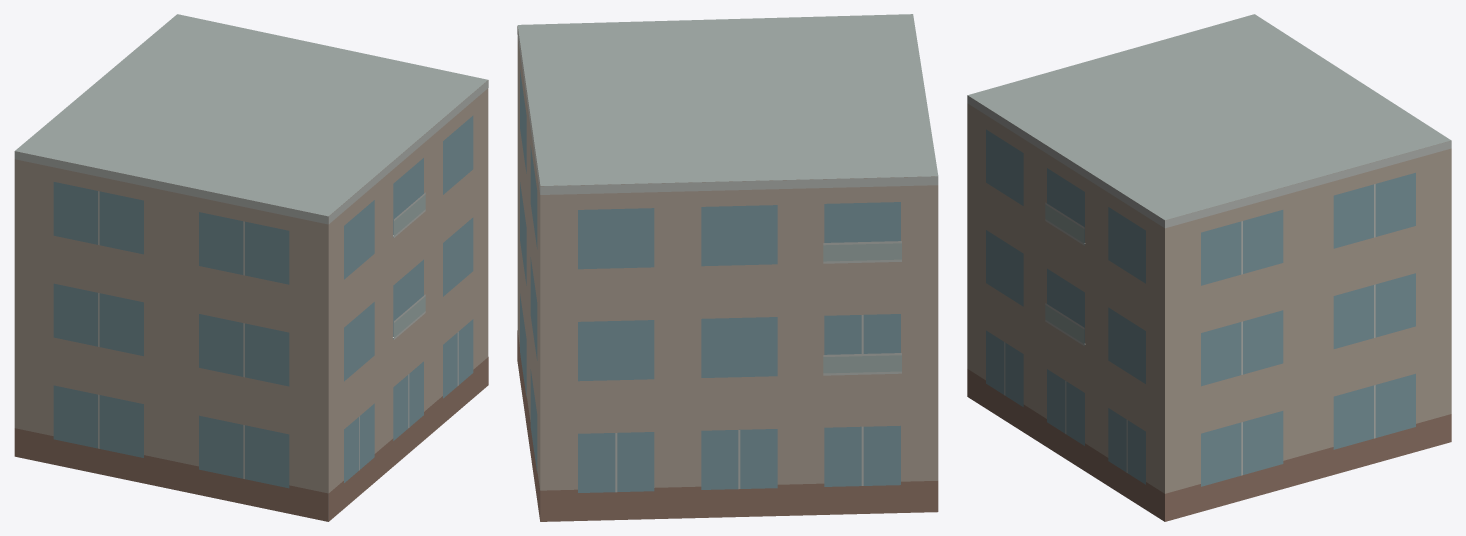
Rendered from survey-upis-32657952.glb.
3 renders of one model, left to right at view 1: azimuth 30°, elevation 25°; view 2: azimuth 150°, elevation 25°; view 3: azimuth 270°, elevation 25°, orthographic. The views are drawn at different scales.
Parts seen in each view (by area): view 1: survey-upis-32657952.tmp; view 2: survey-upis-32657952.tmp; view 3: survey-upis-32657952.tmp.
Boxes of the visible parts, x1,y1,x2,y2 form: survey-upis-32657952.tmp: (14,14,488,521); survey-upis-32657952.tmp: (517,14,938,521); survey-upis-32657952.tmp: (967,14,1451,521).
Bounding box in the file's own units: 13.44 × 9.15 × 13.32.
